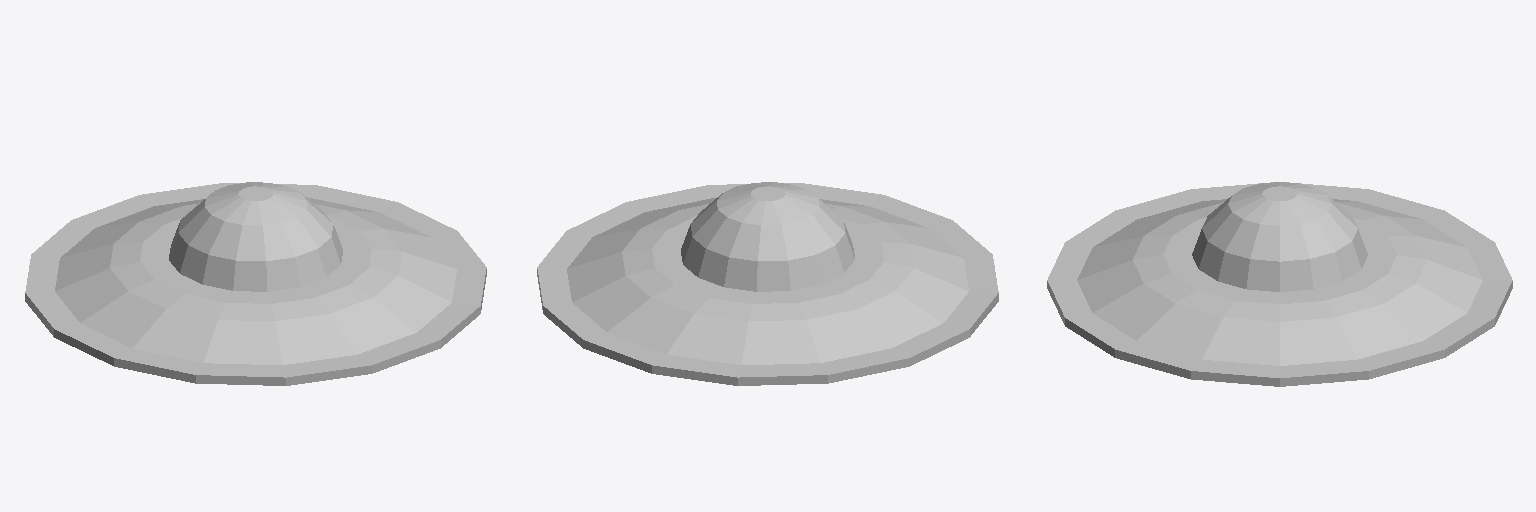
The model's file is ufo.obj.
3 renders of one model, left to right at view 1: azimuth 30°, elevation 25°; view 2: azimuth 150°, elevation 25°; view 3: azimuth 270°, elevation 25°, orthographic.
Parts seen in each view (by area): view 1: Cylinder; view 2: Cylinder; view 3: Cylinder.
Part boxes in pixels (bbox=[...]): Cylinder: bbox=[25, 182, 486, 385]; Cylinder: bbox=[537, 182, 998, 385]; Cylinder: bbox=[1047, 182, 1512, 386].
Bounding box in the file's own units: 165 × 48.74 × 165.